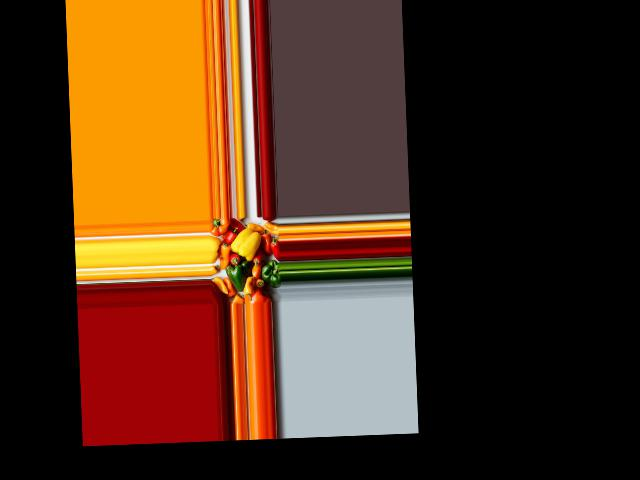bell_pepper: (267, 236, 280, 259)
